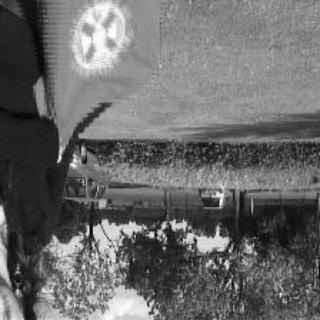other: (34, 3, 176, 134)
